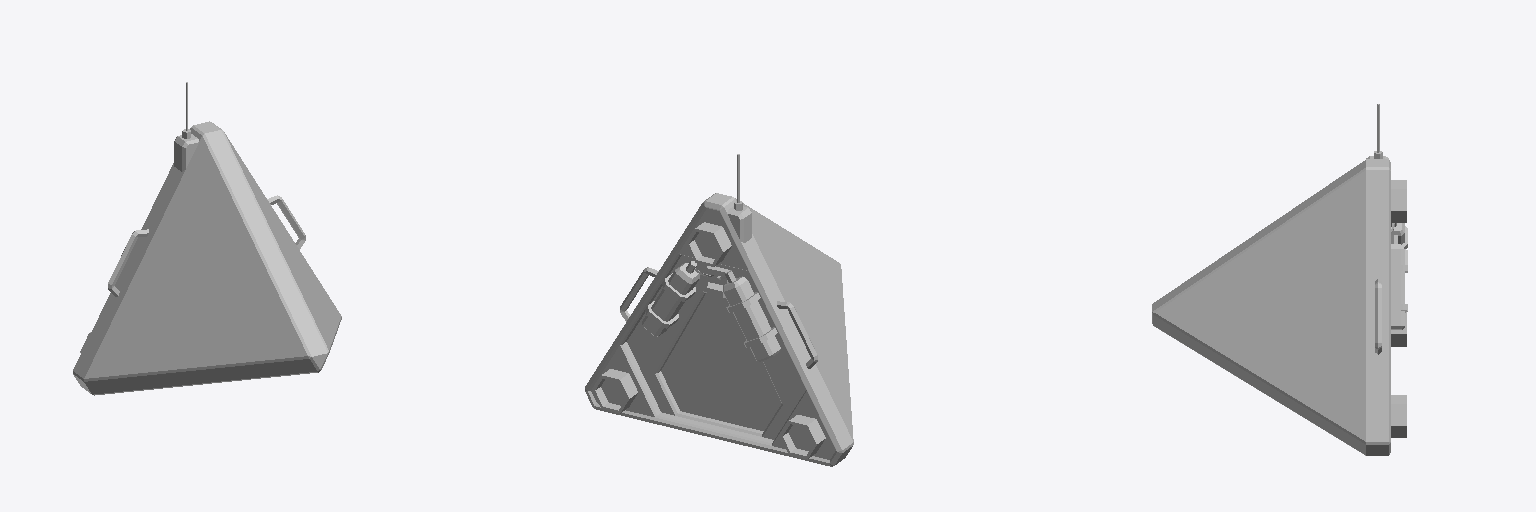
The model's file is oolite_escape_capsule.obj.
The picture shows the model from 3 angles: view 1: azimuth 30°, elevation 25°; view 2: azimuth 150°, elevation 25°; view 3: azimuth 270°, elevation 25°; orthographic projection.
Visible parts, largest first — view 1: Esc.obj; view 2: Esc.obj; view 3: Esc.obj.
Part boxes in pixels (left/top/right/bottom): Esc.obj: left=73, top=82, right=341, bottom=395; Esc.obj: left=585, top=154, right=853, bottom=466; Esc.obj: left=1152, top=104, right=1407, bottom=455.
Bounding box in the file's own units: 7.16 × 7.55 × 6.17.